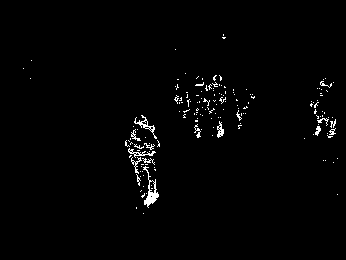person: (125, 112, 161, 209), (206, 72, 227, 139)
